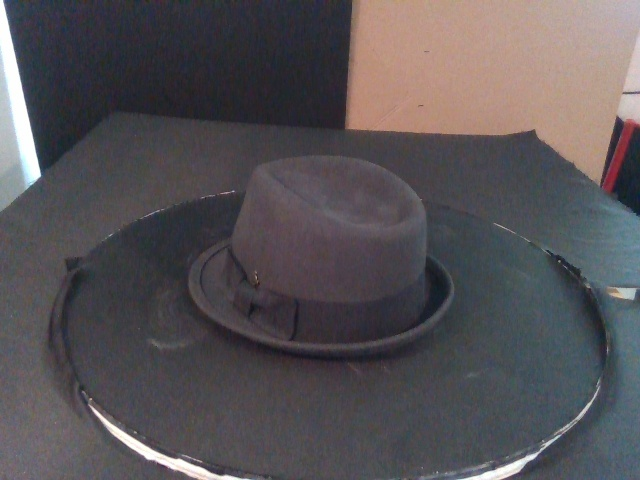hat: (186, 155, 456, 358)
